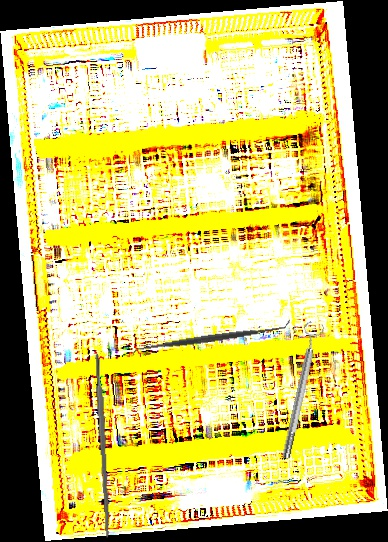Fixation Ring: (274, 320, 327, 461)
Scalpel Handle: (94, 351, 112, 539)
Spatula Surgical: (130, 317, 293, 359)
